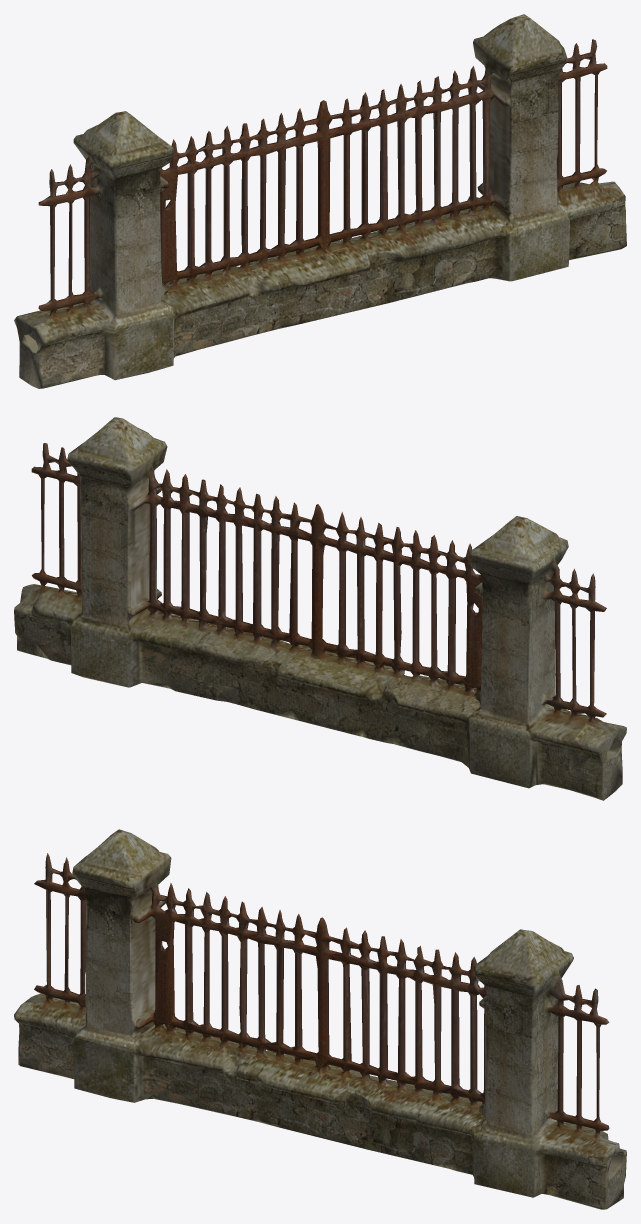
File: graveyard_fence.glb
The picture shows the model from 3 angles, top to bottom: view 1: azimuth 30°, elevation 25°; view 2: azimuth 150°, elevation 25°; view 3: azimuth 330°, elevation 25°; orthographic projection.
Bounding box in the file's own units: 1 × 0.4088 × 0.1143.
1 material, 1 textured.
